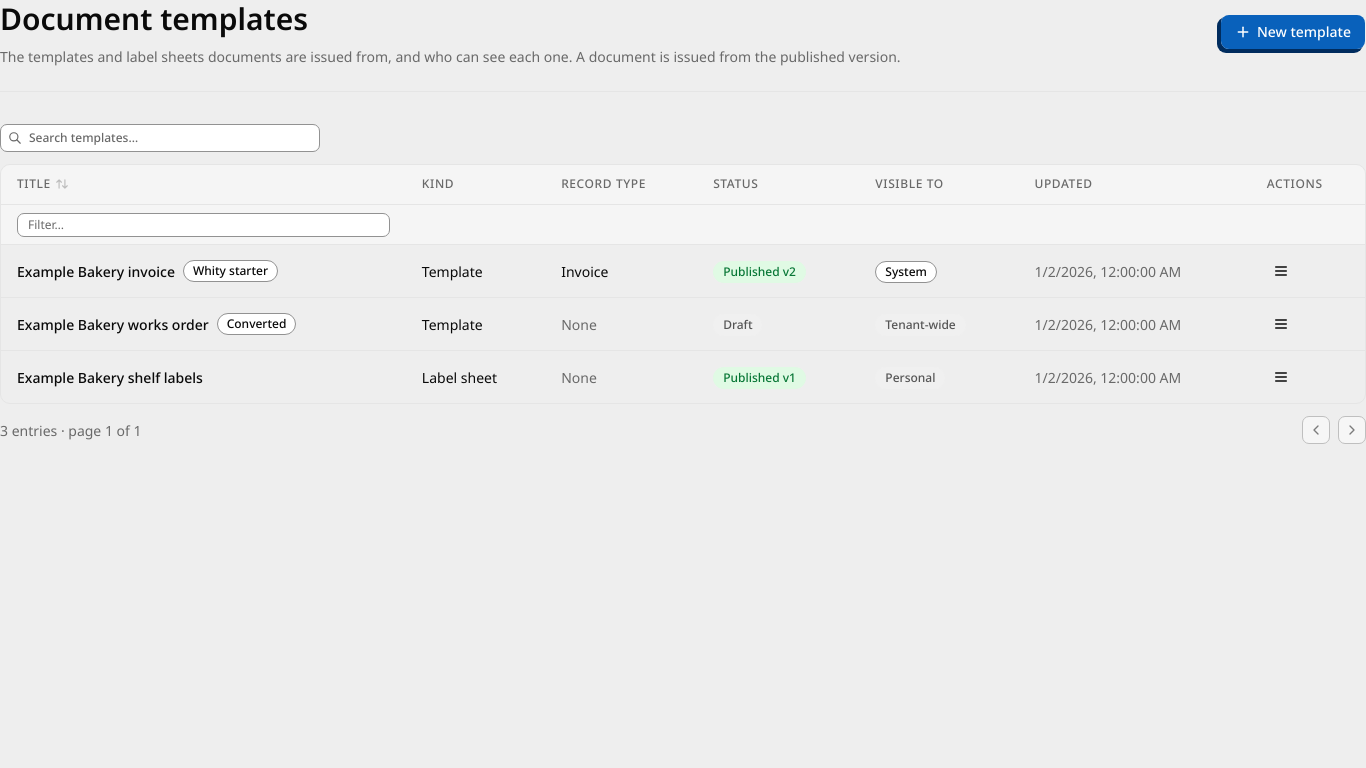
Test: who can see it › shows the server’s reason when sharing is refused
Expected: the link "Example Bakery shelf labels" is shown, x1=17 y1=366 x2=203 y2=388
Click the button named "Actions for Example Bakery shelf labels": click(1281, 377) x1=1267 y1=363 x2=1295 y2=391
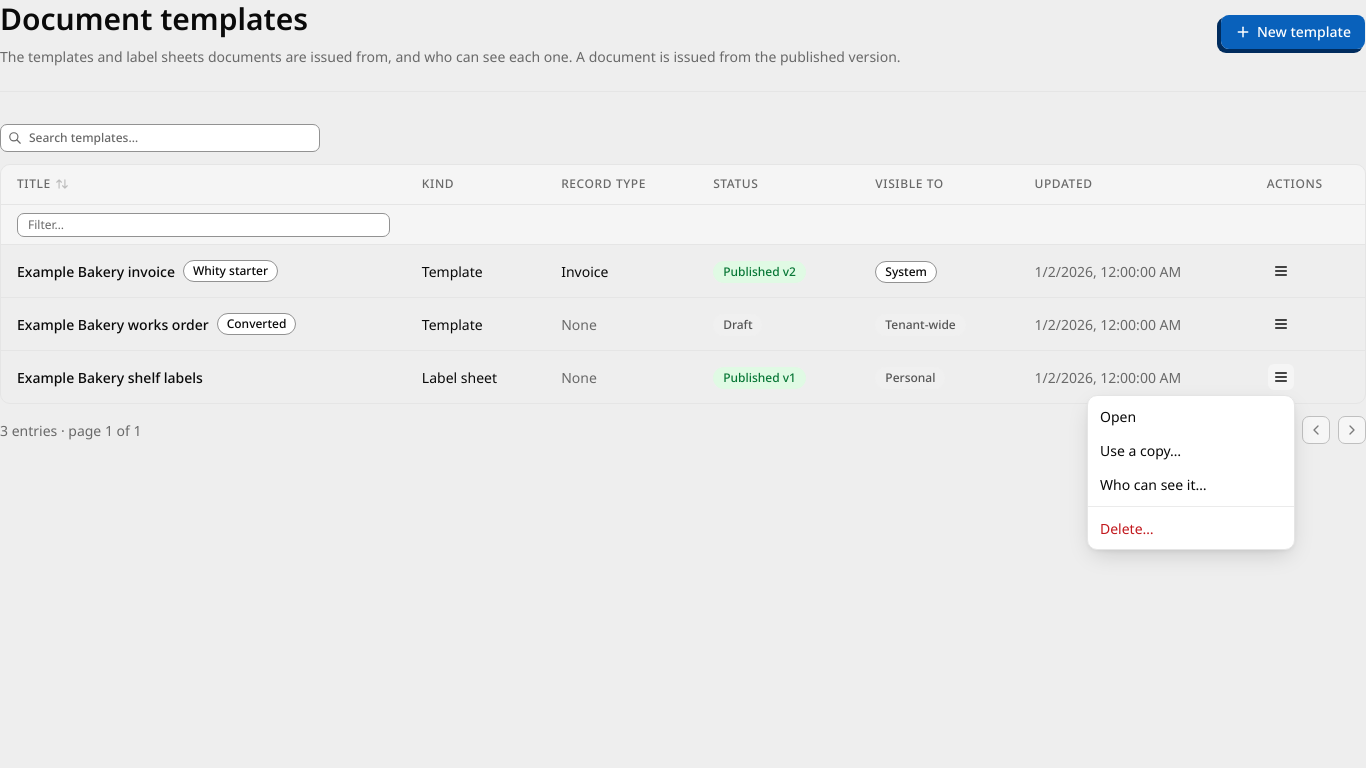
Click the menu item "Who can see it…": click(1153, 484) x1=1100 y1=475 x2=1206 y2=494
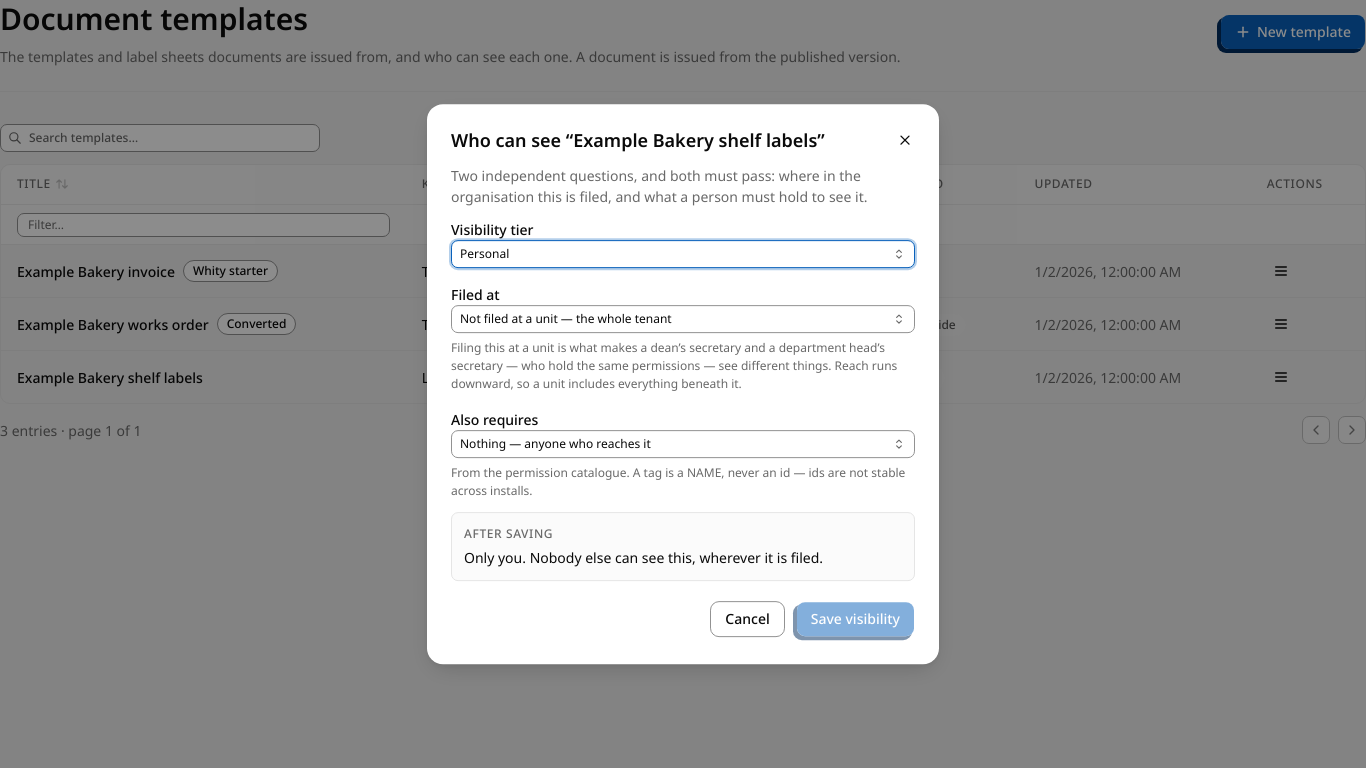
Click the dropdown named "Visibility tier": click(485, 254) x1=451 y1=240 x2=915 y2=268
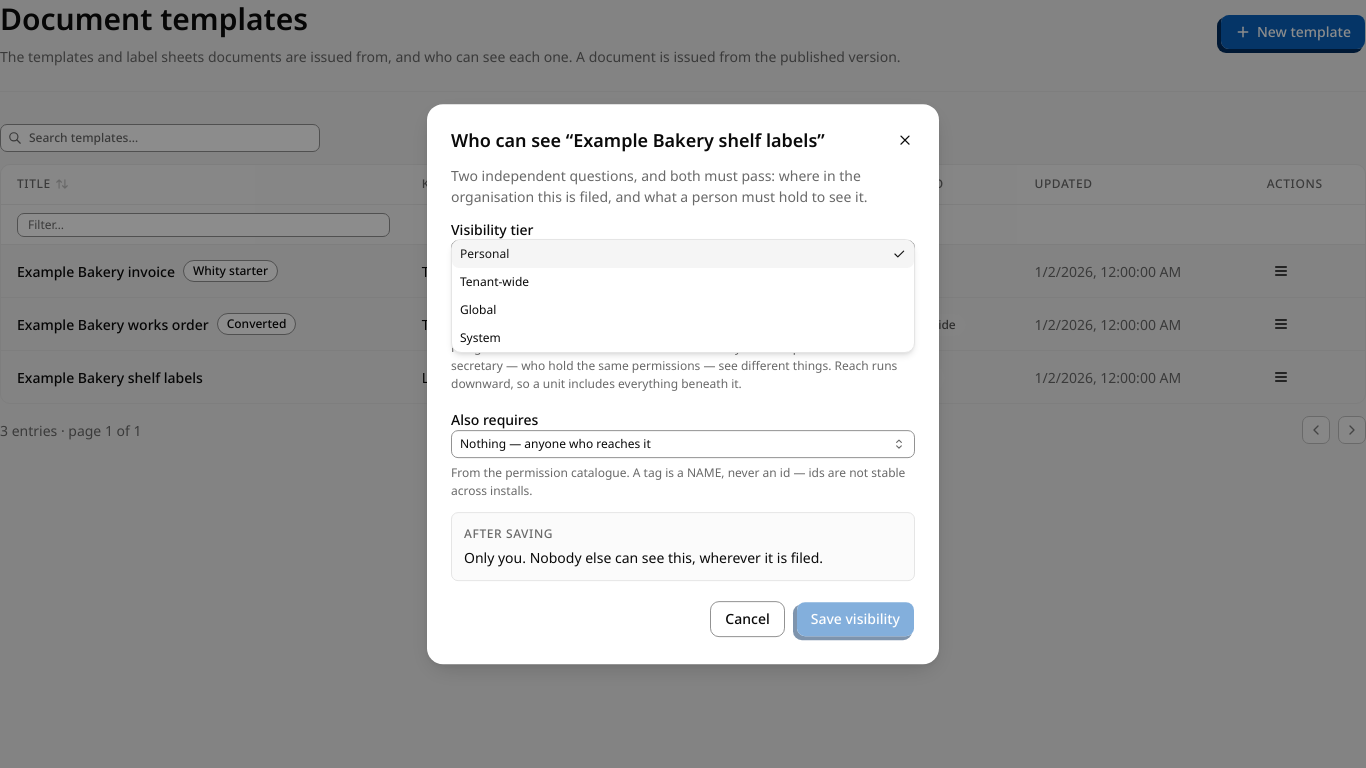
Click the option "Tenant-wide": click(494, 282) x1=460 y1=273 x2=529 y2=290
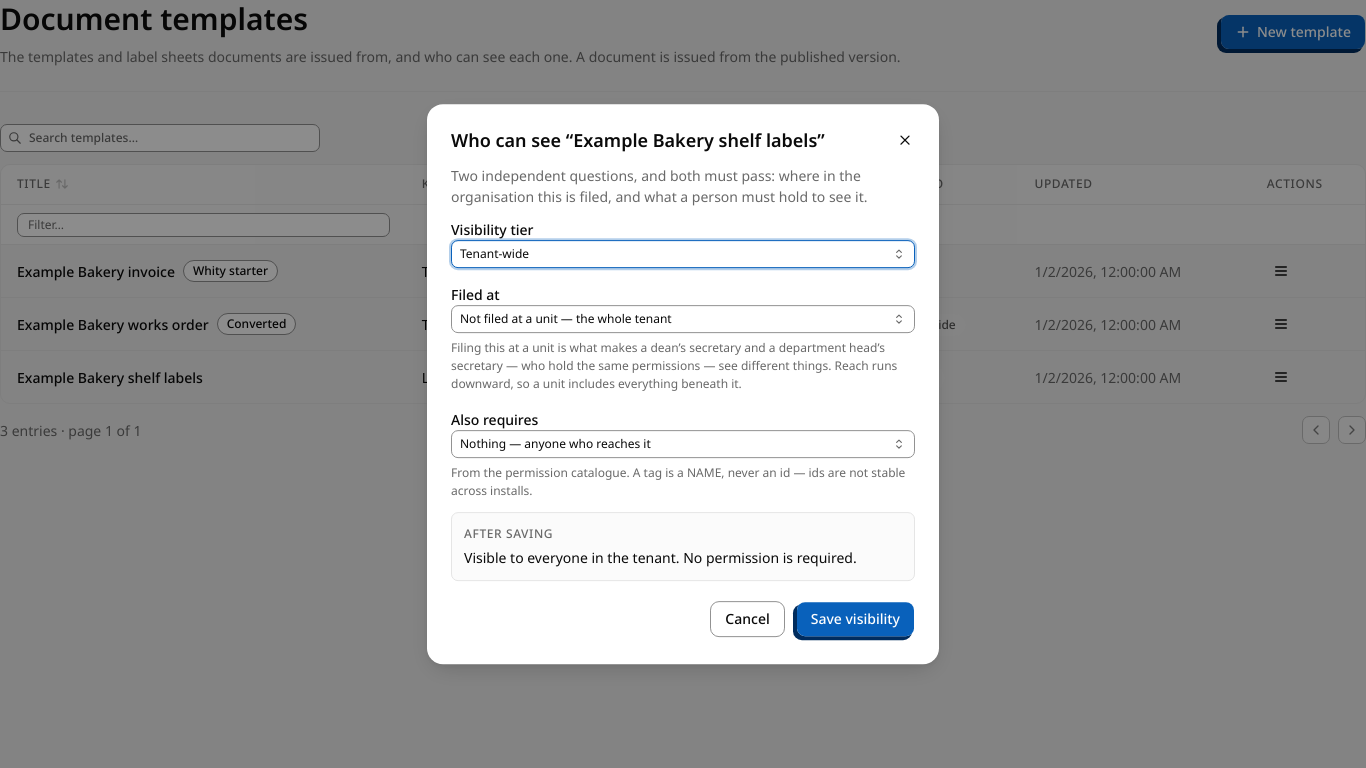
Click the button "Save visibility": click(855, 619) x1=796 y1=601 x2=915 y2=637
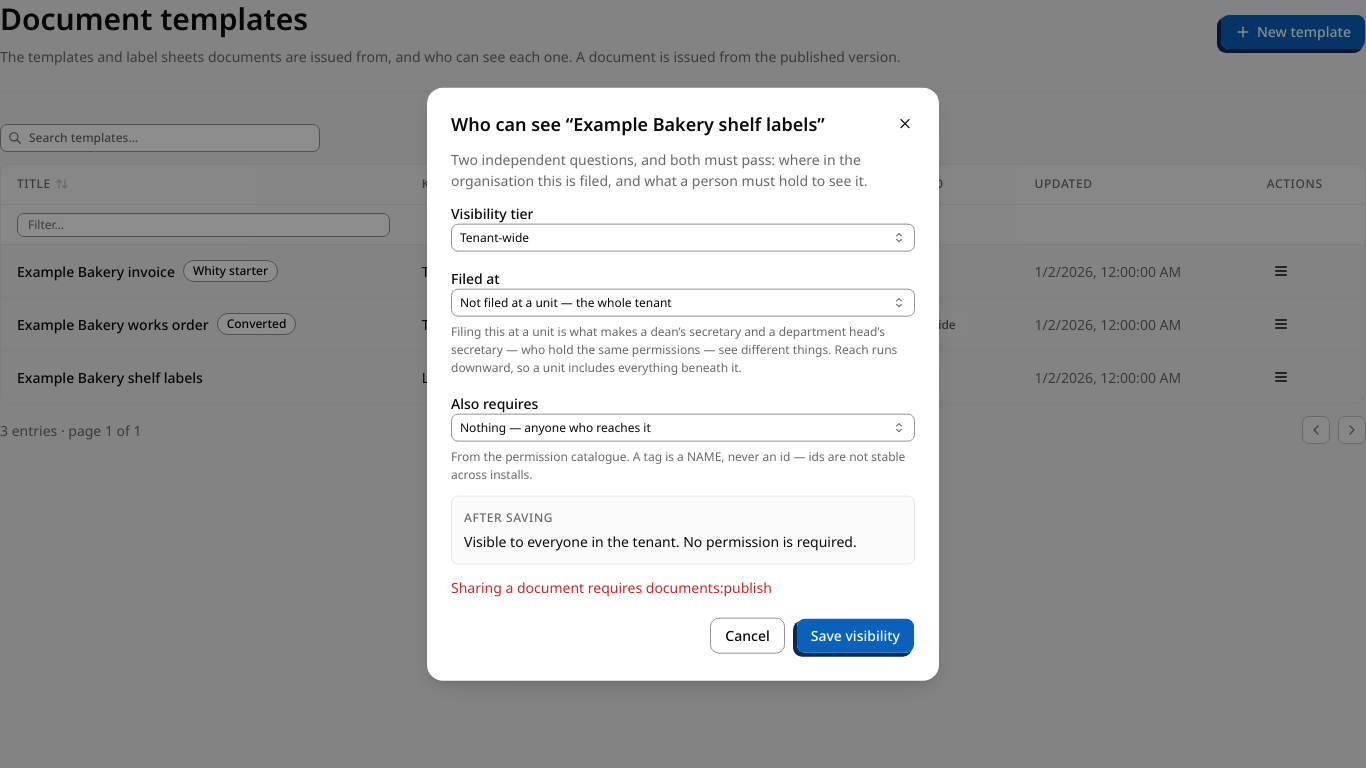
Expected: the text "Sharing a document requires documents:publish" is shown, x1=451 y1=577 x2=772 y2=596
